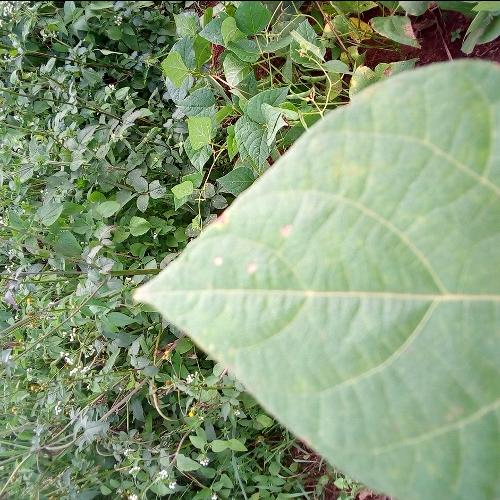sehat: (259, 218, 500, 467)
